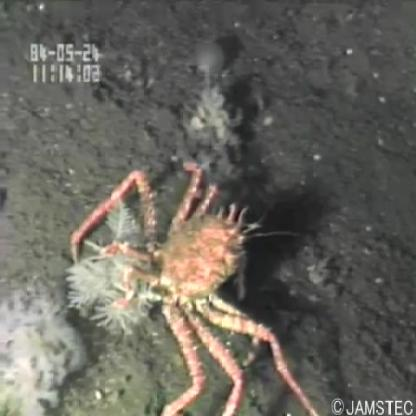Bio: (62, 155, 320, 416)
